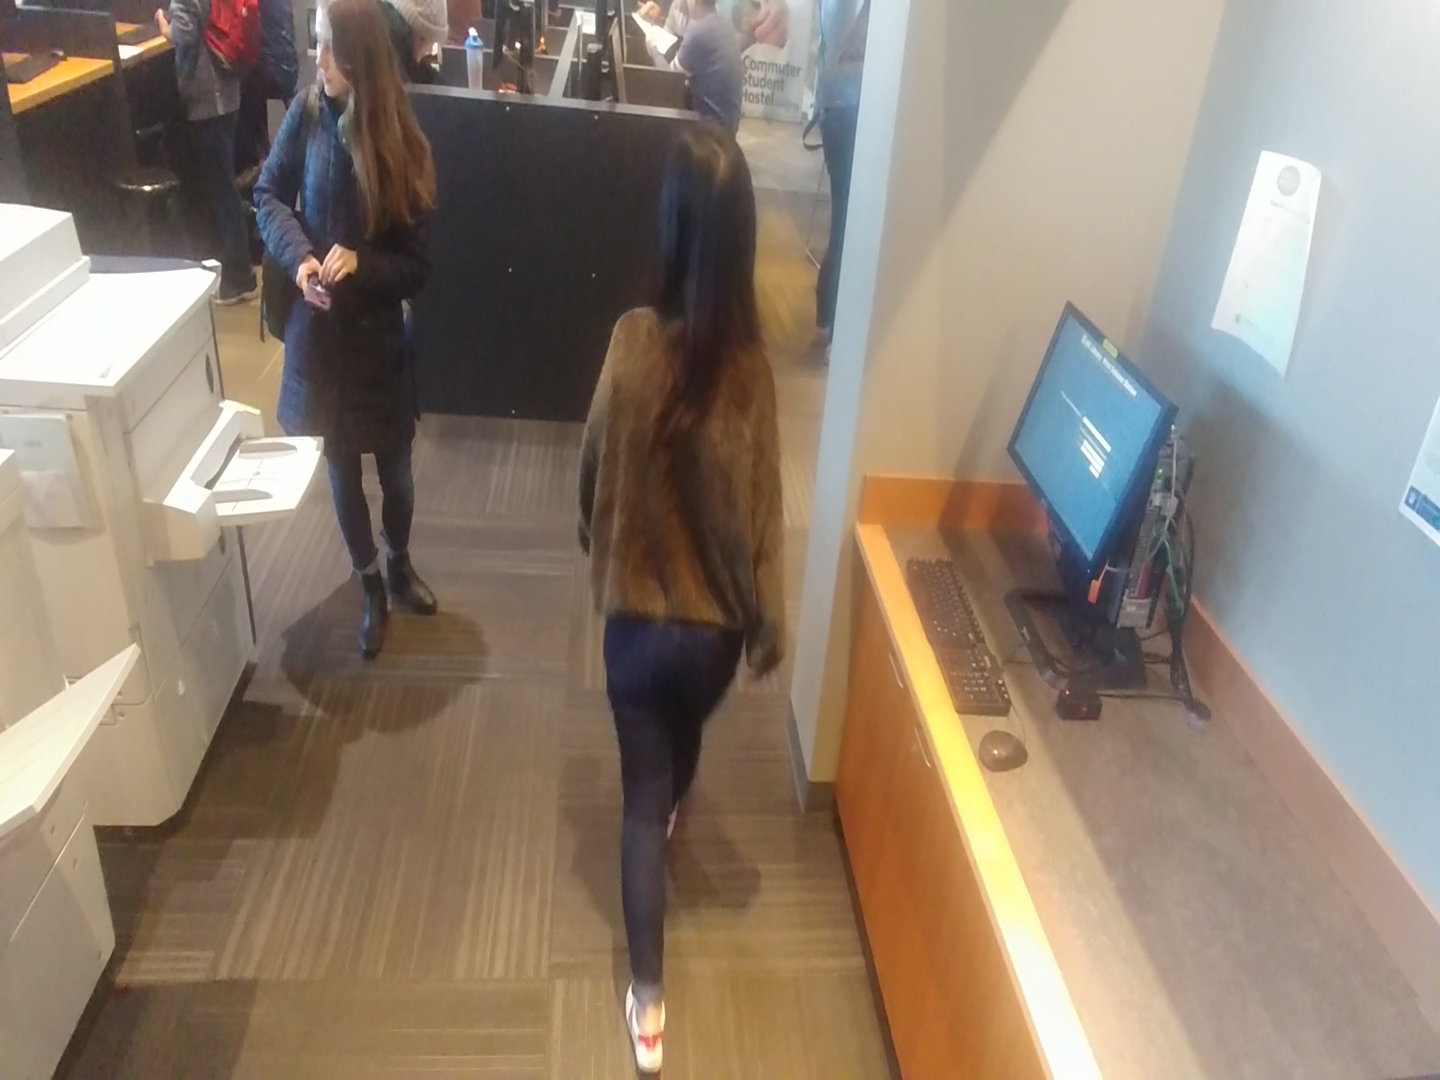face: (640, 113, 771, 353), (292, 0, 398, 111)
human: (564, 112, 799, 1080), (249, 0, 459, 666), (144, 0, 265, 315), (662, 0, 751, 134)
